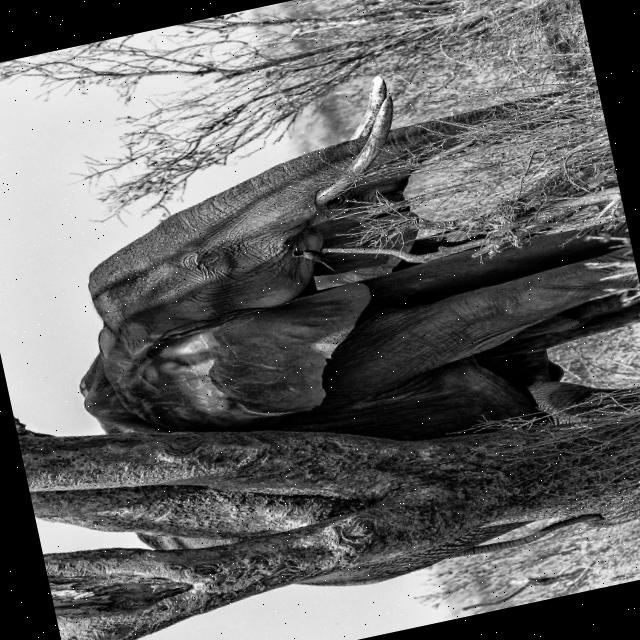Elephant: (27, 29, 640, 633)
